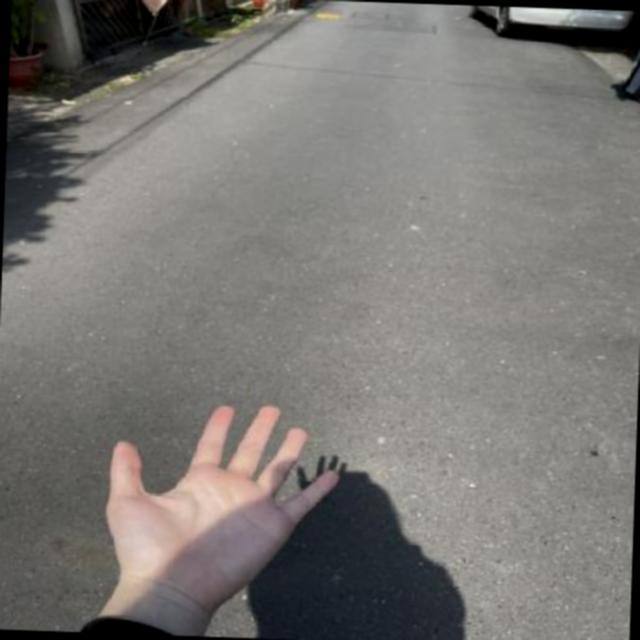hand: (84, 386, 355, 621)
